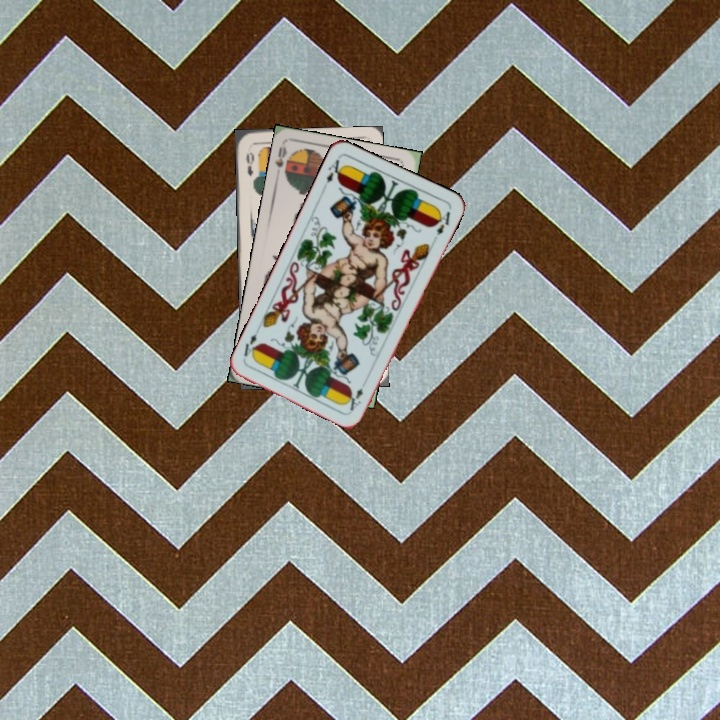EA: (322, 155, 348, 186), (346, 383, 366, 414)
EO: (242, 148, 257, 179)
SO: (271, 142, 293, 183)
